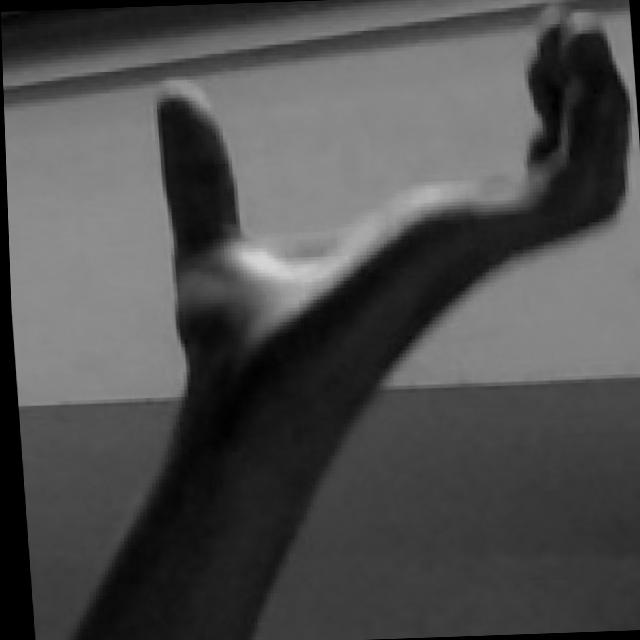space: (147, 1, 640, 387)
